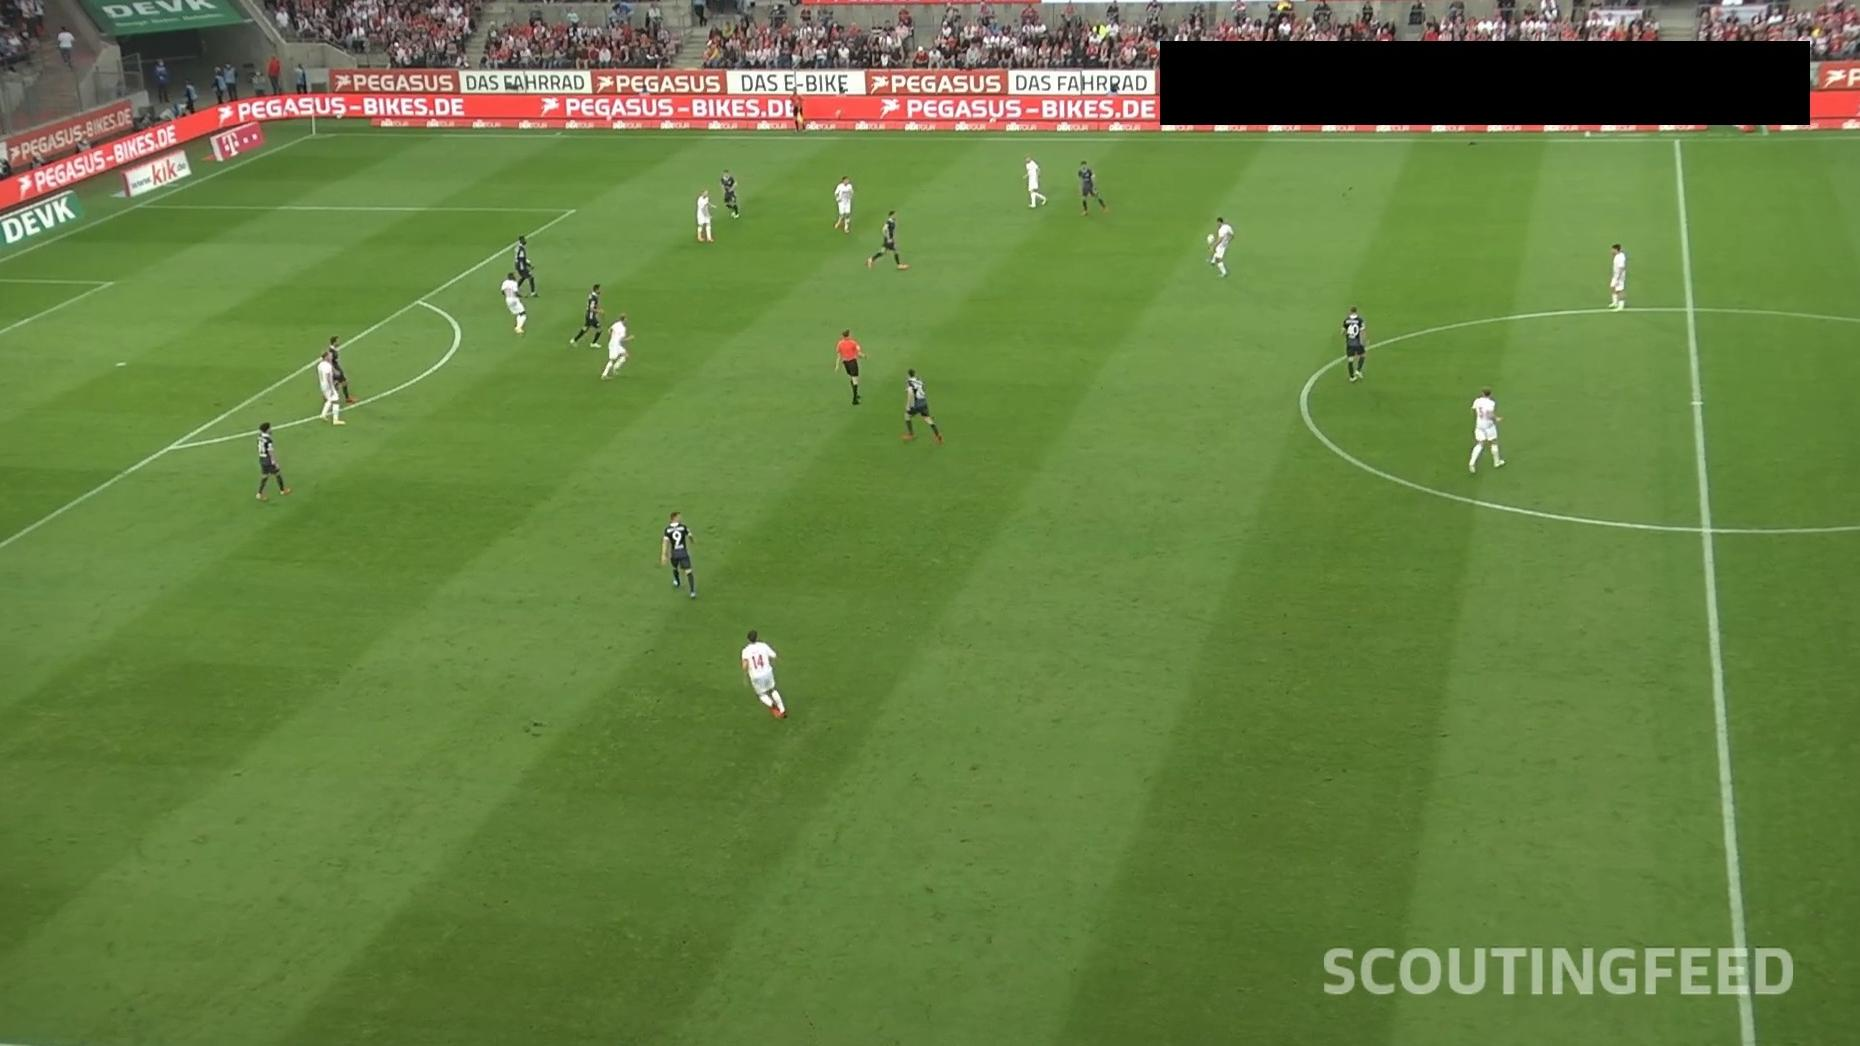ball: (1206, 232, 1217, 245)
